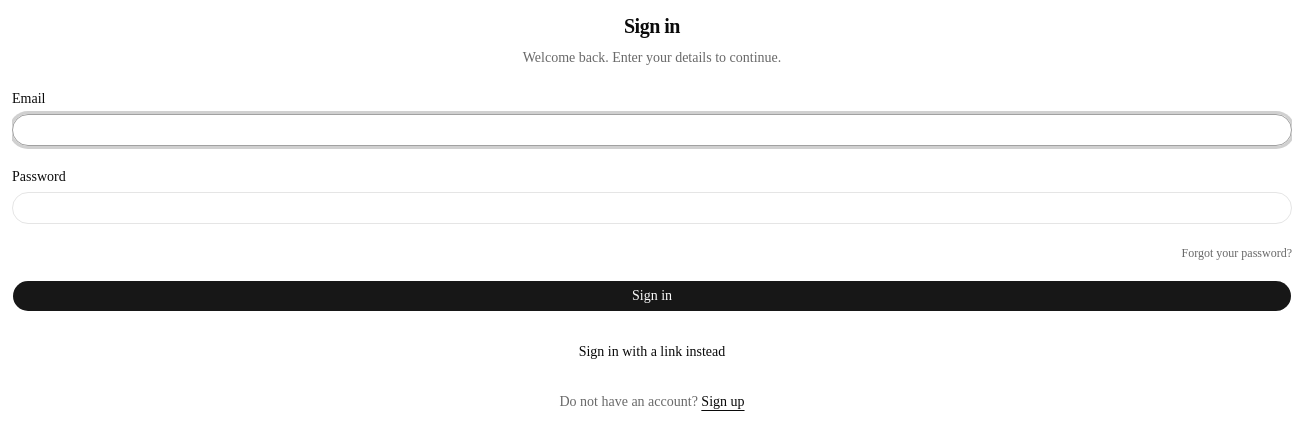
Test: LoginForm — magic link › confirms without revealing whether the account exists
The width and height of the screenshot is (1304, 428).
Click the button "Sign in with a link instead" at (652, 352), box [12,336,1292,368]
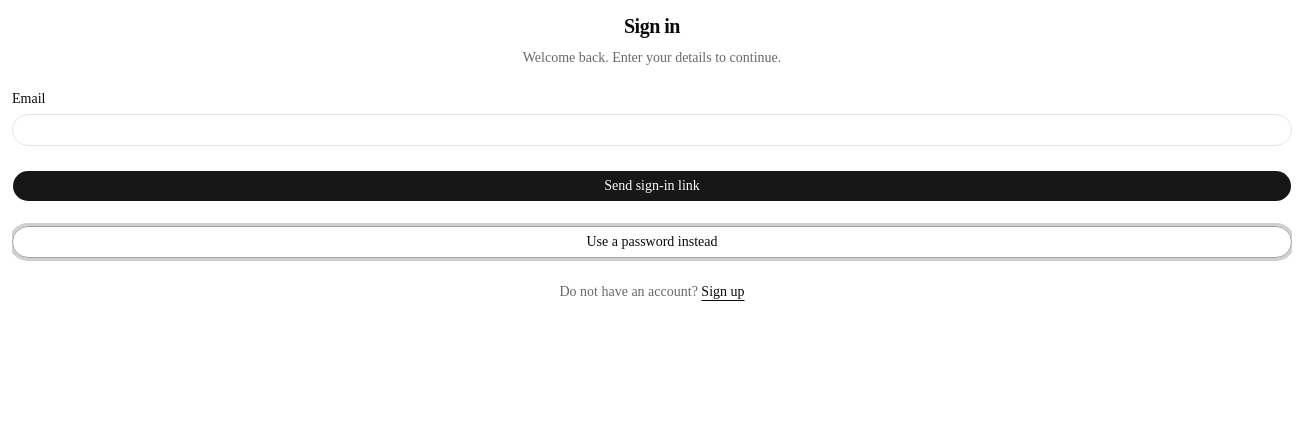
Type "nobody@example.com" into the field labelled "Email" at (652, 130), box [12,114,1292,146]
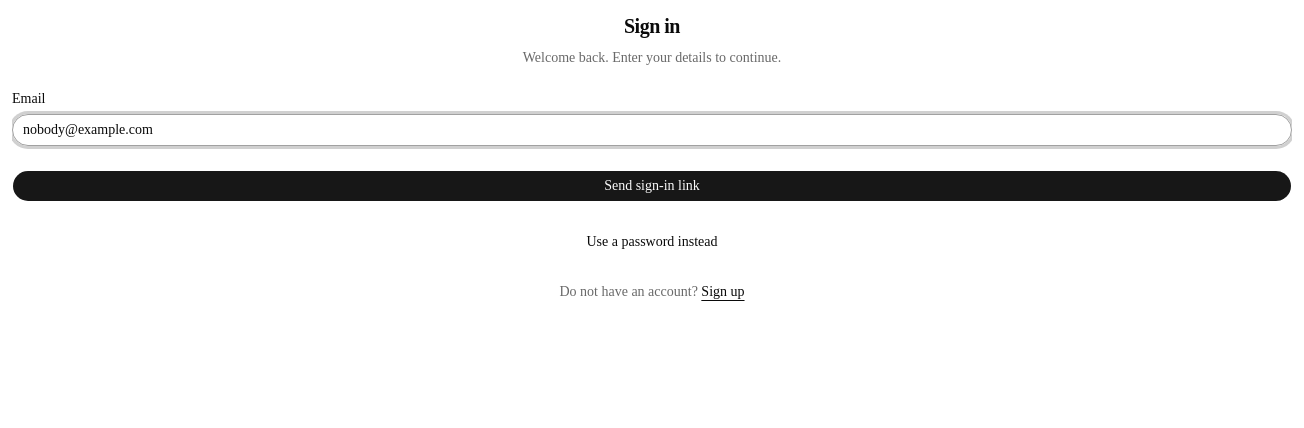
Click the button "Send sign-in link" at (652, 186), box [12,170,1292,202]
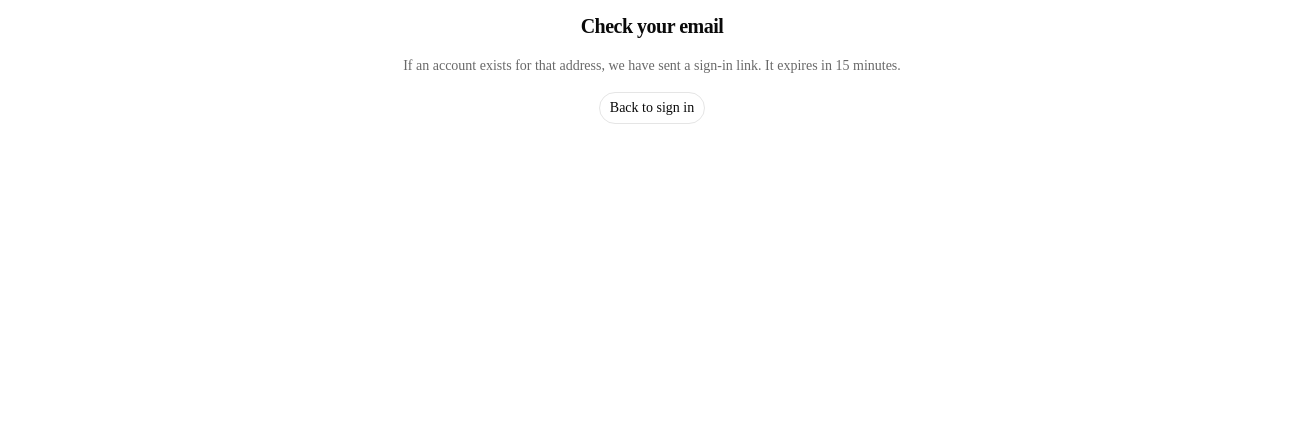
Expected: the message shows "If an account exists", [403,58,901,73]
